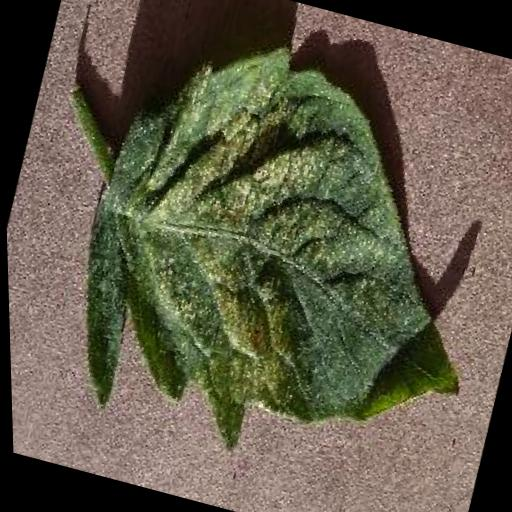Spider Mites: (36, 12, 512, 506)
